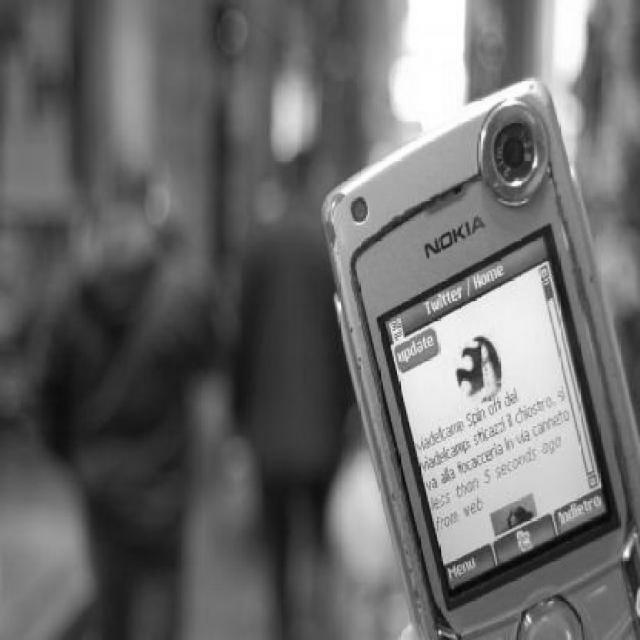fake: (320, 74, 640, 640)
